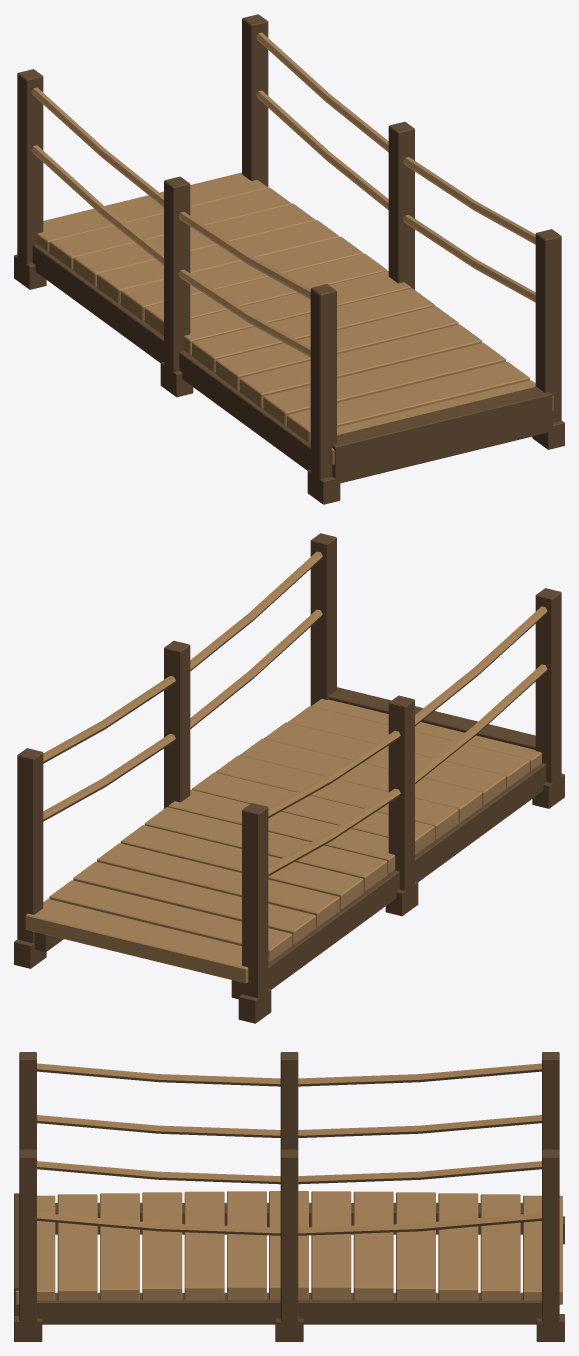
Rendered from S018_plank_bridge_rebuilt.glb.
3 views of the same model, one above another, from view 1: azimuth 30°, elevation 25°; view 2: azimuth 150°, elevation 25°; view 3: azimuth 270°, elevation 25° (orthographic). The views are drawn at different scales.
Visible parts, largest first — view 1: Scenic_framing_warm_bare_timber, Dark_stained_structural_timber; view 2: Scenic_framing_warm_bare_timber, Dark_stained_structural_timber; view 3: Scenic_framing_warm_bare_timber, Dark_stained_structural_timber.
Part boxes in pixels (<box>): Scenic_framing_warm_bare_timber: <box>31,32,553,464</box>; Dark_stained_structural_timber: <box>14,14,564,504</box>; Scenic_framing_warm_bare_timber: <box>25,551,547,983</box>; Dark_stained_structural_timber: <box>14,533,564,1023</box>; Scenic_framing_warm_bare_timber: <box>15,1063,562,1304</box>; Dark_stained_structural_timber: <box>14,1052,564,1341</box>.
Bounding box in the file's own units: 1.4 × 1.15 × 3.1.
